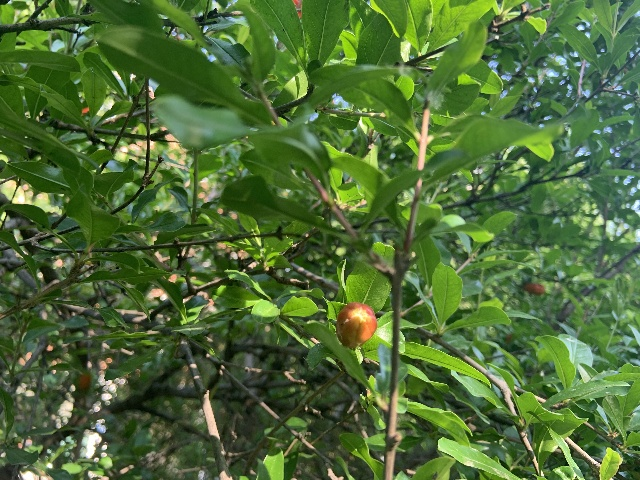bud: (336, 301, 376, 347), (524, 284, 545, 295)
